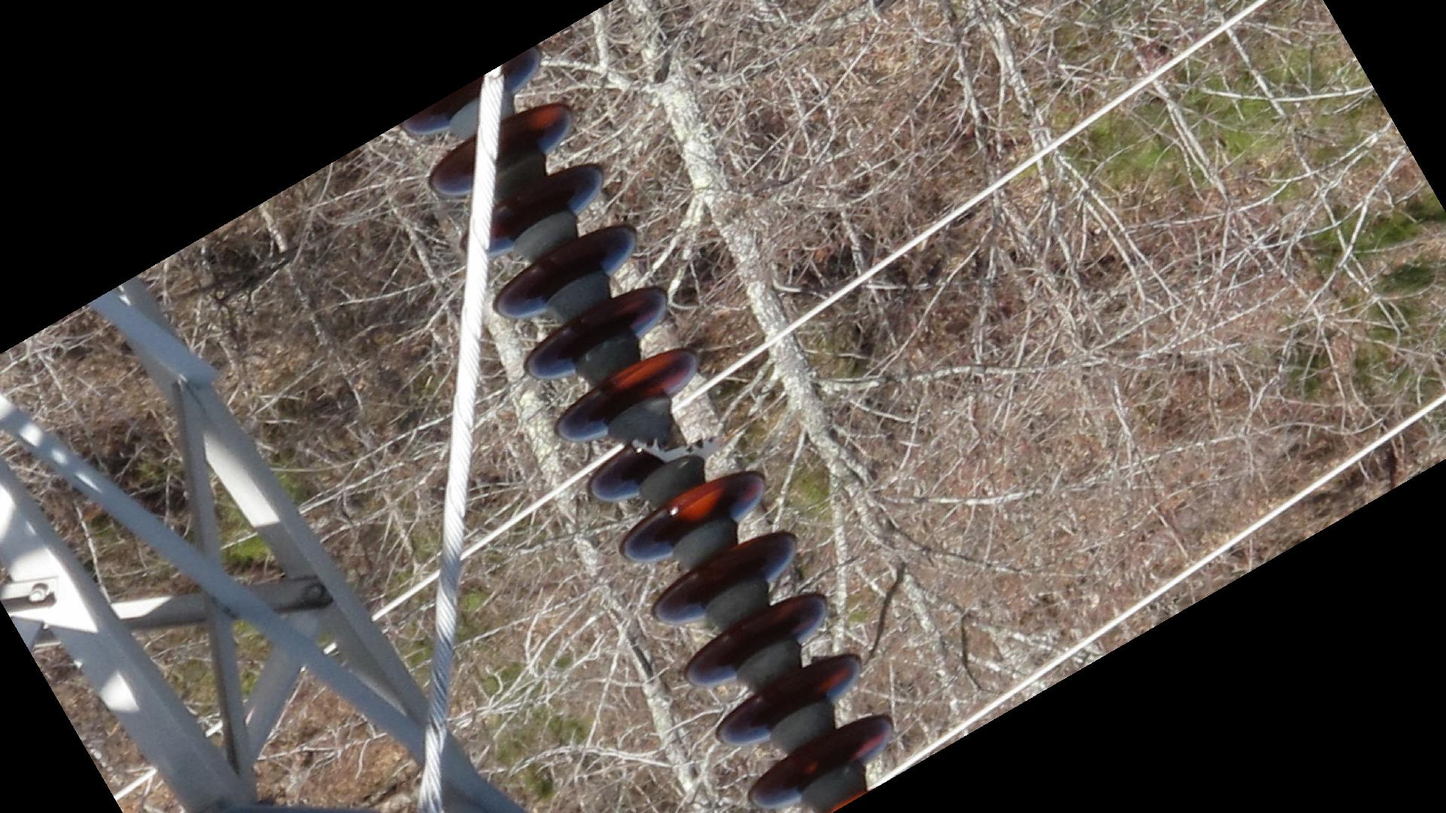insulator: (401, 38, 901, 813)
insulator_breakage: (626, 427, 724, 463)
